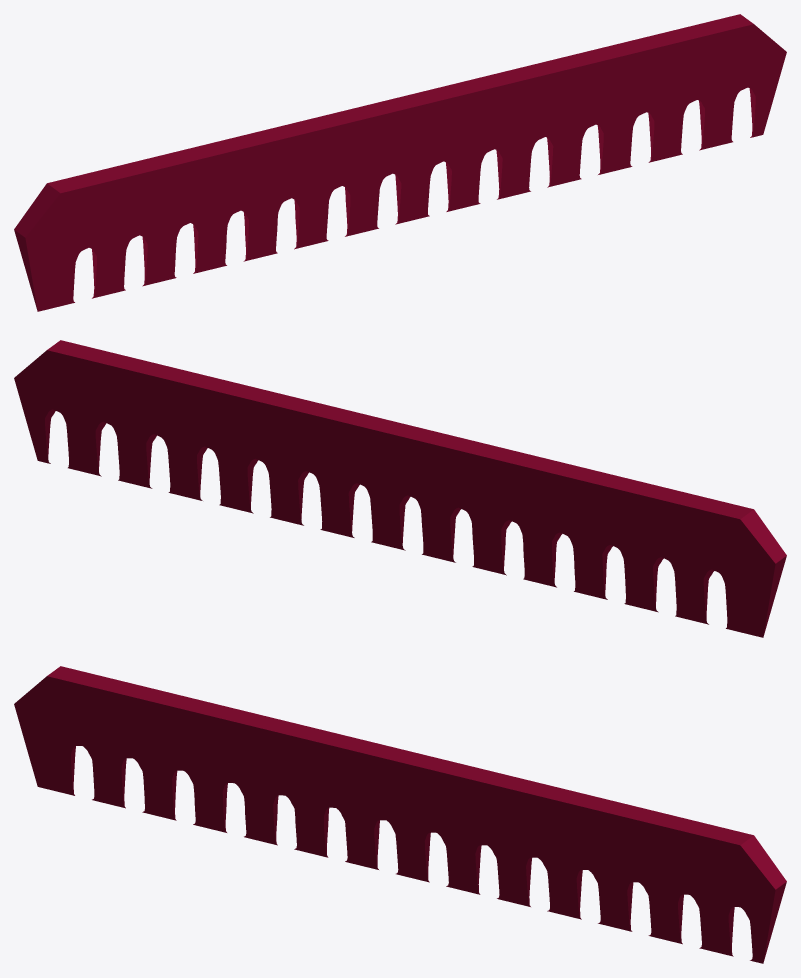
File: comb.FBX
3 views of the same model, one above another, from view 1: azimuth 30°, elevation 25°; view 2: azimuth 150°, elevation 25°; view 3: azimuth 330°, elevation 25° (orthographic).
Parts seen in each view (by area): view 1: Box001; view 2: Box001; view 3: Box001.
Boxes of the visible parts, <box> form: Box001: <box>14,14,786,311</box>; Box001: <box>14,340,786,637</box>; Box001: <box>14,666,786,963</box>.
Bounding box in the file's own units: 218 × 32.66 × 6.79.
